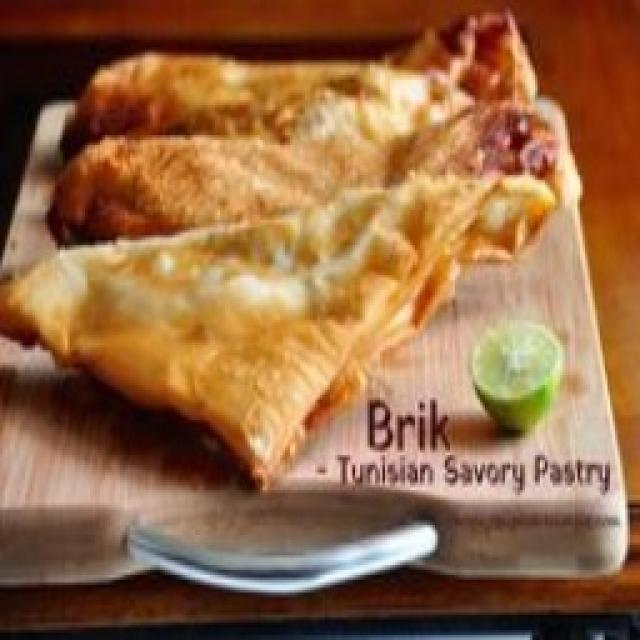Brik: (0, 12, 582, 492)
